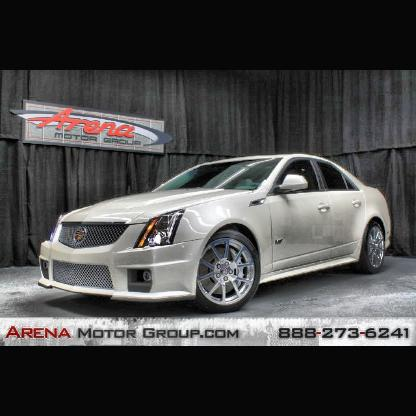Cadillac CTS-V Sedan 2012: (40, 154, 393, 315)
